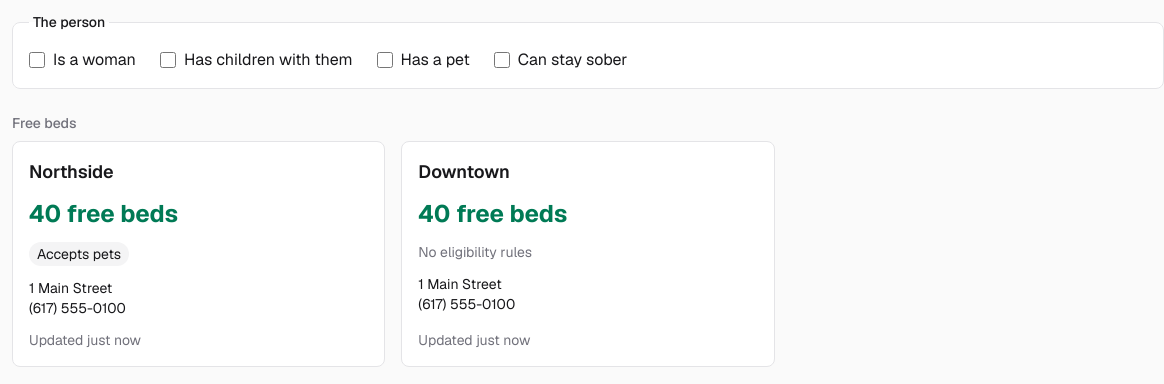
Test: ShelterBoard › shows each eligibility rule a shelter has
The width and height of the screenshot is (1164, 384).
Click the checkbox labelled "Can stay sober" at (502,60), box x1=494 y1=52 x2=510 y2=68
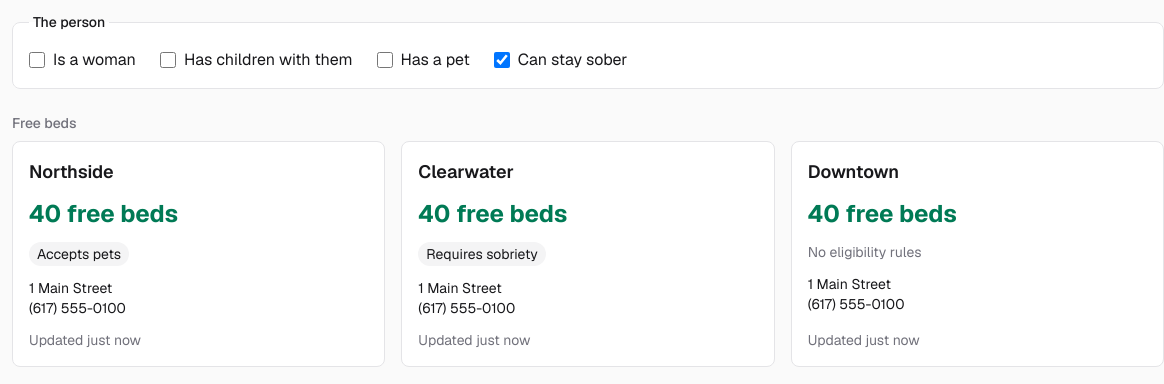
Expected: the list item "Accepts pets" is shown, x1=29 y1=242 x2=129 y2=266
Expected: the list item "Requires sobriety" is shown, x1=418 y1=242 x2=546 y2=266
